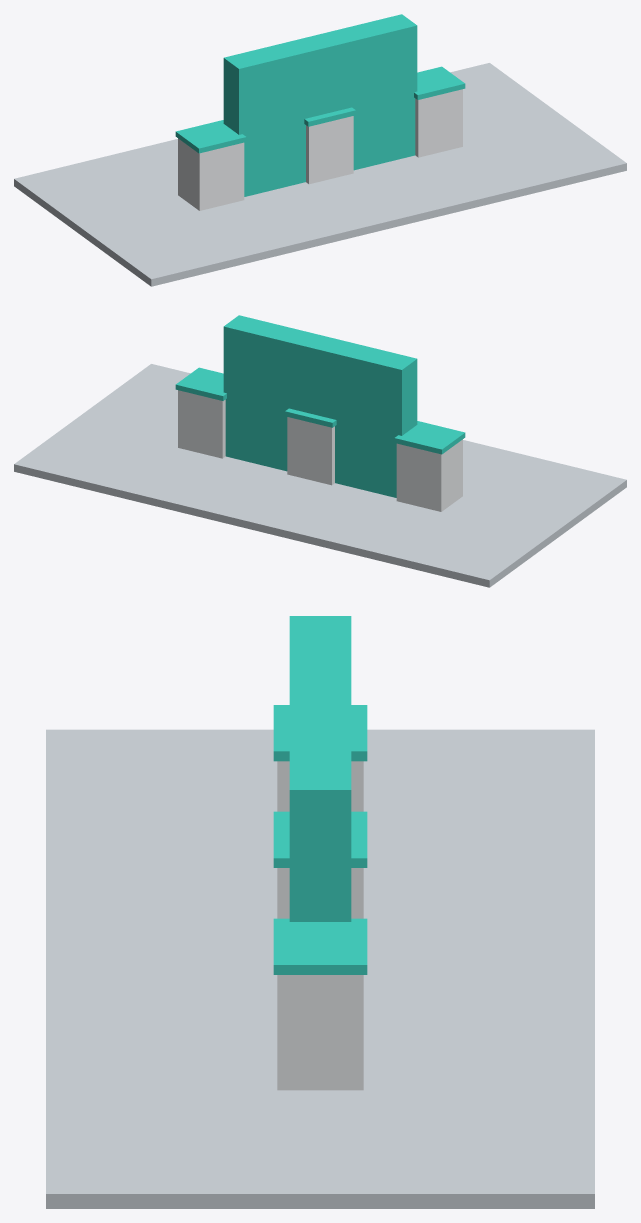
3 renders of one model, top to bottom at view 1: azimuth 30°, elevation 25°; view 2: azimuth 150°, elevation 25°; view 3: azimuth 270°, elevation 25°, orthographic. The views are drawn at different scales.
Visible parts, largest first — view 1: Exhibition Booth Concept; view 2: Exhibition Booth Concept; view 3: Exhibition Booth Concept.
Boxes of the visible parts, x1,y1,x2,y2 form: Exhibition Booth Concept: (14,14,626,286); Exhibition Booth Concept: (14,315,626,587); Exhibition Booth Concept: (46,616,594,1208).
Size of the model in its own units: 8 by 2.2 by 4.
